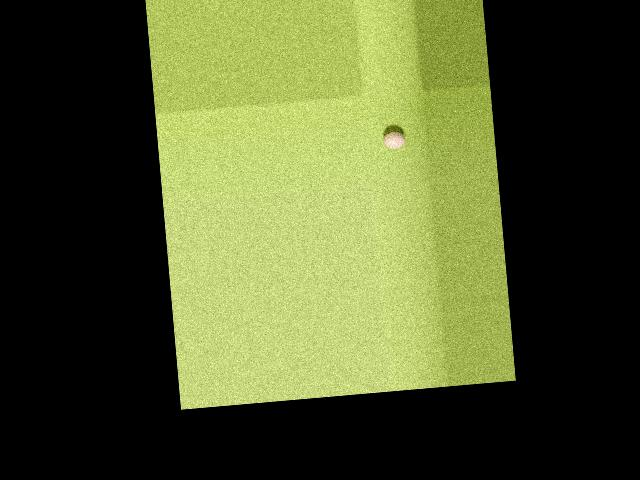egg: (383, 130, 406, 148)
